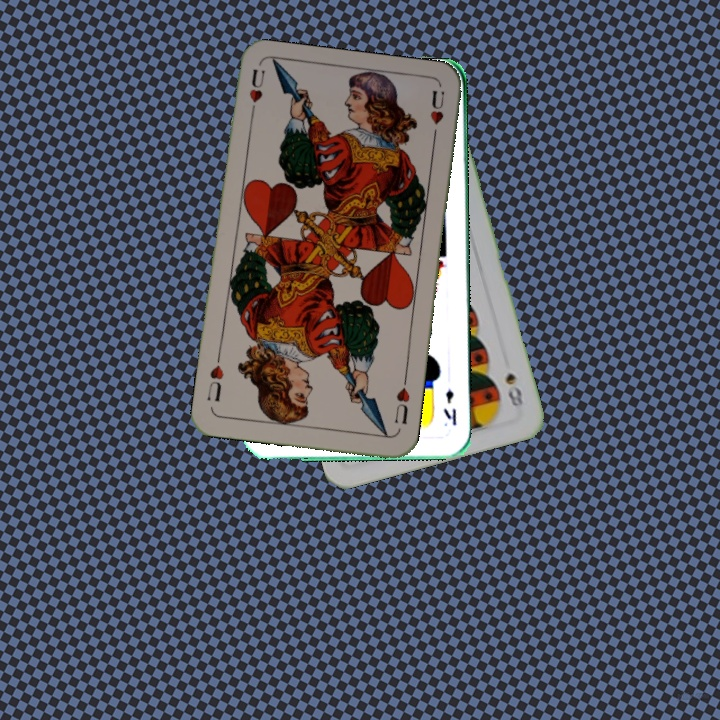EK: (439, 385, 459, 428)
HU: (245, 64, 268, 123), (390, 374, 413, 427)
S8: (501, 369, 526, 415)
